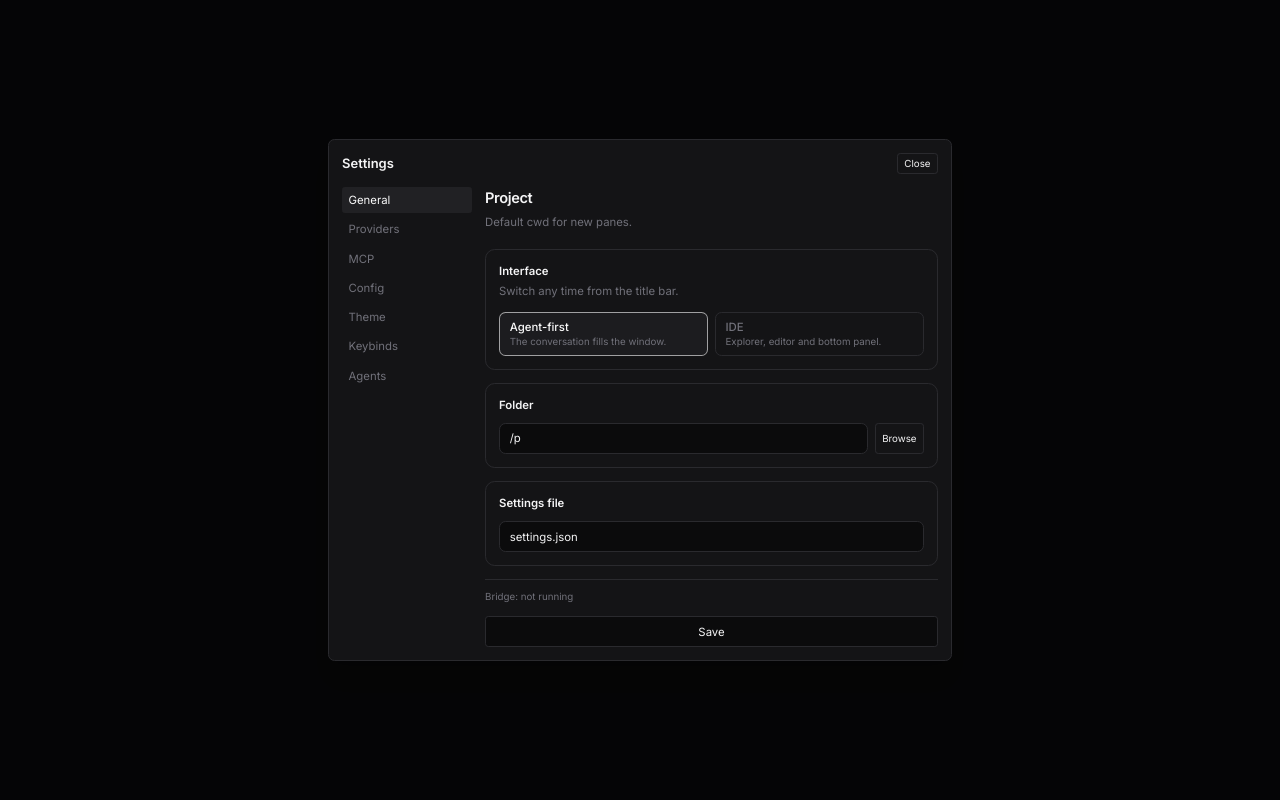
Test: SettingsPanel sections › agents section shows empty state
Click the button "Agents" at (407, 376), box [342,363,472,389]
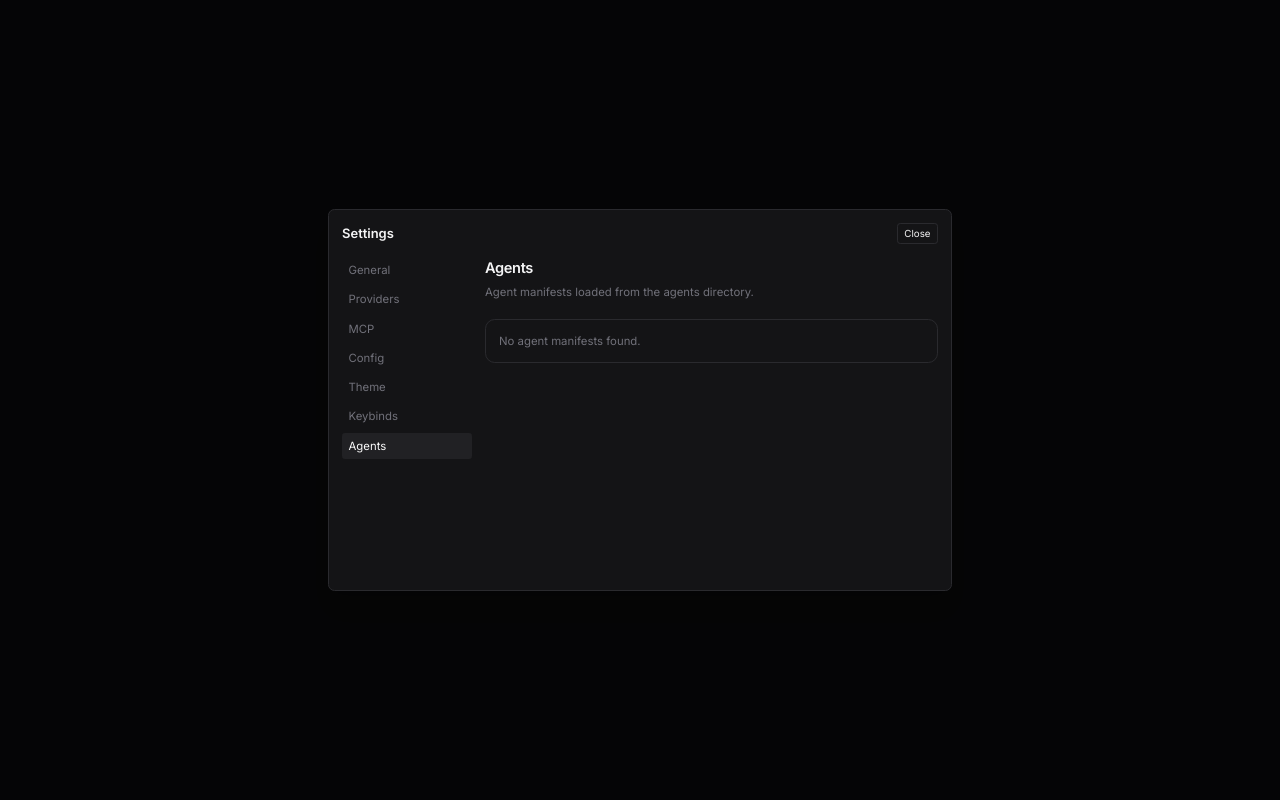
Result: the text "No agent manifests found." is shown at [485,319,938,363]
